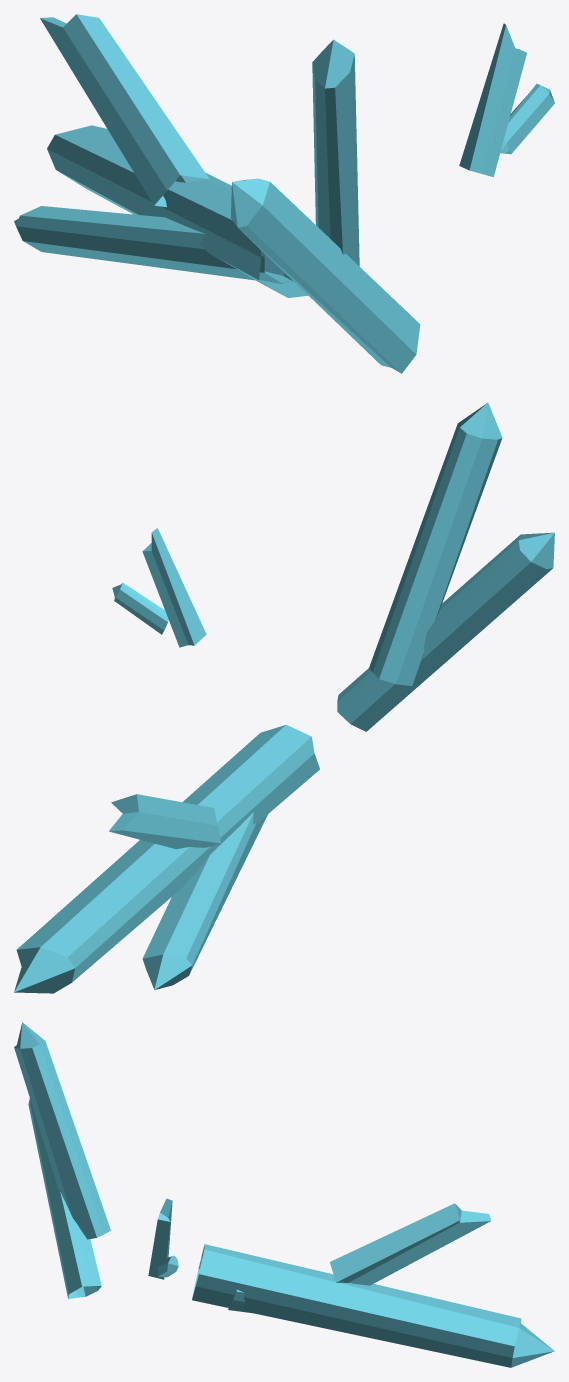
Rendered from galena.glb.
The picture shows the model from 3 angles, top to bottom: view 1: azimuth 30°, elevation 25°; view 2: azimuth 150°, elevation 25°; view 3: azimuth 270°, elevation 25°; orthographic projection. The views are drawn at different scales.
Parts seen in each view (by area): view 1: stone-03CrystalsLOD0; view 2: stone-03CrystalsLOD0; view 3: stone-03CrystalsLOD0.
Boxes of the visible parts, box(x1,y1,x2,y2) form: stone-03CrystalsLOD0: box(14, 14, 554, 373); stone-03CrystalsLOD0: box(14, 402, 554, 993); stone-03CrystalsLOD0: box(14, 1022, 554, 1367).
Size of what is drawn, in the model's own units: 0.9831 by 1.03 by 1.7.
